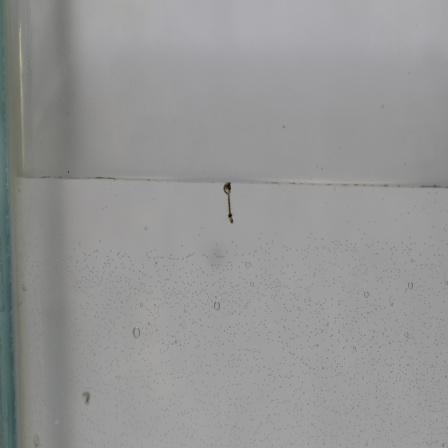Jentik-Nyamuk: (220, 178, 237, 226), (78, 388, 95, 408)
